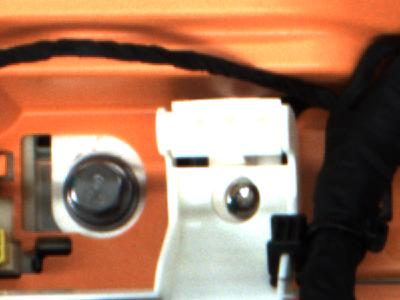nut_b: (58, 154, 140, 233)
